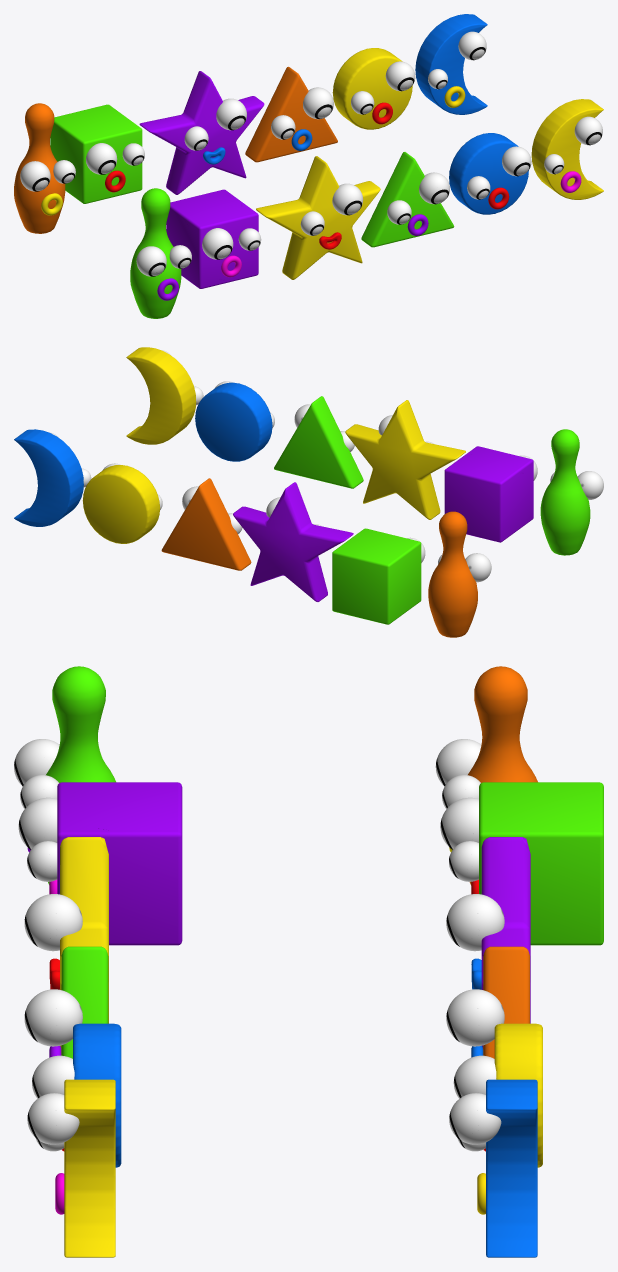
Rendered from tadc_-_gloinks.glb.
3 views of the same model, one above another, from view 1: azimuth 30°, elevation 25°; view 2: azimuth 150°, elevation 25°; view 3: azimuth 270°, elevation 25° (orthographic). The views are drawn at different scales.
Parts seen in each view (by area): view 1: Object_8, Object_35, Object_34, Object_12, Object_23, Object_38, Object_41, Object_18, Object_16, Object_33, Object_2, Object_32 (+22 smaller); view 2: Object_35, Object_8, Object_12, Object_34, Object_18, Object_41, Object_16, Object_33, Object_23, Object_38, Object_2, Object_32 (+2 smaller); view 3: Object_8, Object_35, Object_38, Object_23, Object_32, Object_2, Object_34, Object_12, Object_18, Object_16, Object_41, Object_33 (+16 smaller).
Part boxes in pixels (box(x1,y1,x2,y2)): Object_8: box(166, 189, 258, 288); Object_35: box(50, 104, 142, 203); Object_34: box(139, 71, 264, 194); Object_12: box(256, 156, 380, 279); Object_23: box(531, 99, 603, 199); Object_38: box(415, 14, 487, 114); Object_41: box(332, 48, 412, 129); Object_18: box(449, 133, 528, 214); Object_16: box(361, 152, 454, 247); Object_33: box(245, 66, 337, 162); Object_2: box(130, 188, 181, 318); Object_32: box(14, 103, 65, 233); Object_35: box(332, 528, 421, 624); Object_8: box(444, 446, 533, 542); Object_12: box(345, 400, 465, 519); Object_34: box(233, 482, 353, 601); Object_18: box(195, 382, 272, 461); Object_41: box(82, 465, 160, 543); Object_16: box(274, 396, 363, 488); Object_33: box(161, 478, 251, 570); Object_23: box(126, 347, 196, 444); Object_38: box(14, 429, 83, 526); Object_2: box(540, 429, 590, 555); Object_32: box(428, 511, 477, 637); Object_8: box(57, 782, 182, 945); Object_35: box(479, 782, 603, 945); Object_38: box(486, 1079, 537, 1257); Object_23: box(64, 1079, 115, 1257); Object_32: box(468, 666, 537, 885); Object_2: box(46, 666, 115, 884); Object_34: box(481, 837, 530, 1048); Object_12: box(60, 837, 108, 1055); Object_18: box(73, 1023, 121, 1167); Object_16: box(61, 946, 108, 1058); Object_41: box(494, 1023, 542, 1167); Object_33: box(483, 946, 529, 1058).
Bounding box in the file's own units: 1.63 × 0.4125 × 0.9728.
Materials: 48 (45 with a texture image).
